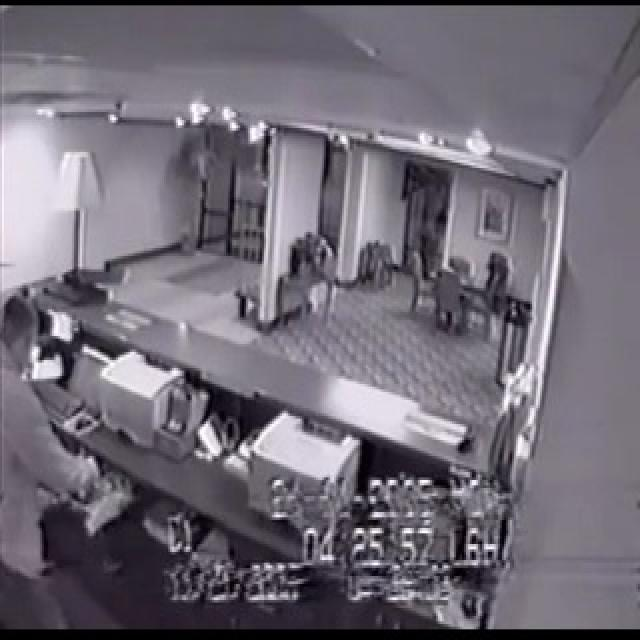thief: (0, 296, 144, 624)
